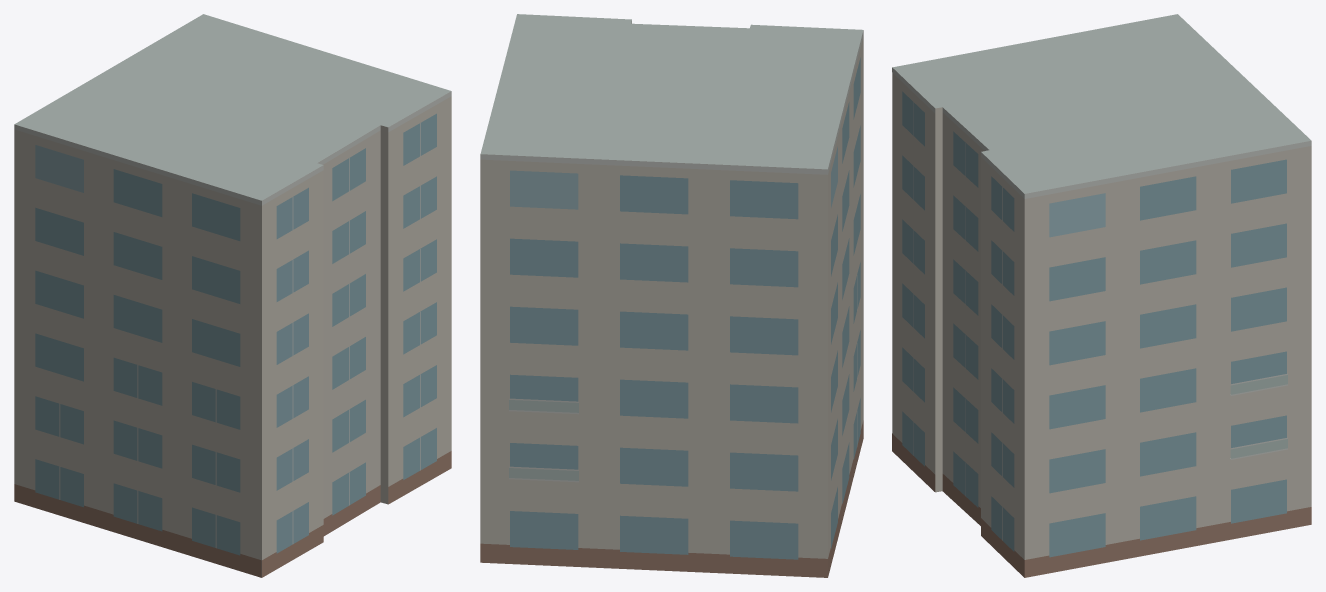
File: survey-upis-32745679.glb
3 renders of one model, left to right at view 1: azimuth 30°, elevation 25°; view 2: azimuth 150°, elevation 25°; view 3: azimuth 270°, elevation 25°, orthographic. The views are drawn at different scales.
Parts seen in each view (by area): view 1: survey-upis-32745679.tmp; view 2: survey-upis-32745679.tmp; view 3: survey-upis-32745679.tmp.
Part boxes in pixels (x1,y1,x2,y2): survey-upis-32745679.tmp: (14,14,451,577); survey-upis-32745679.tmp: (480,14,863,577); survey-upis-32745679.tmp: (892,14,1311,577).
Size of the model in its own units: 18.4 by 18.3 by 18.13.
